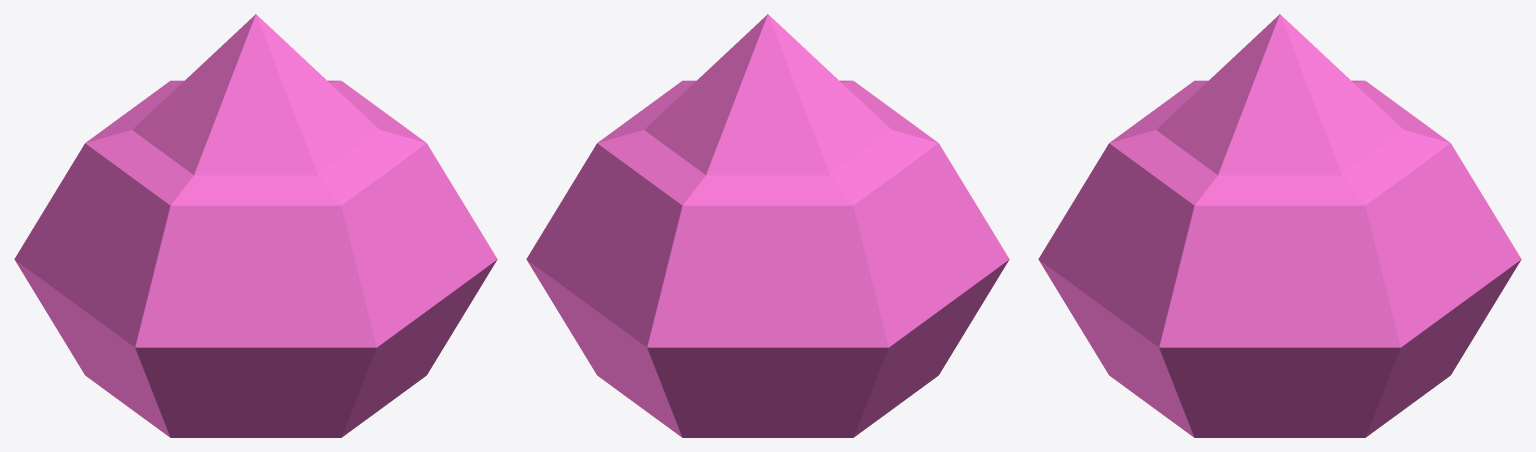
Rendered from Fruto_RainbowSeed.fbx.
The picture shows the model from 3 angles, left to right: view 1: azimuth 30°, elevation 25°; view 2: azimuth 150°, elevation 25°; view 3: azimuth 270°, elevation 25°; orthographic projection.
Visible parts, largest first — view 1: Produto_RainbowSeed; view 2: Produto_RainbowSeed; view 3: Produto_RainbowSeed.
Part boxes in pixels (x1,y1,x2,y2): Produto_RainbowSeed: [14, 14, 497, 437]; Produto_RainbowSeed: [526, 14, 1009, 437]; Produto_RainbowSeed: [1038, 14, 1521, 437].
Size of the model in its own units: 0.6062 by 0.6545 by 0.7.
Materials: 1 (1 with a texture image).
